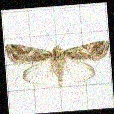Spodoptera litura: (4, 22, 110, 90)
